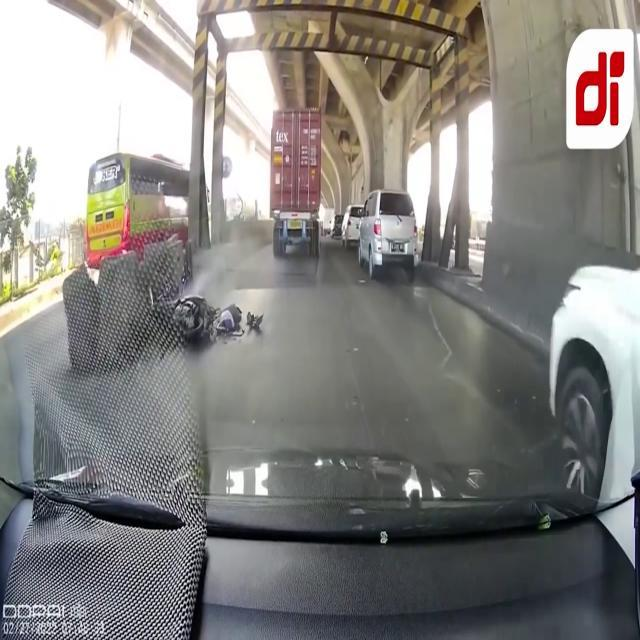normal: (328, 175, 432, 279)
single accident: (130, 284, 277, 355)
